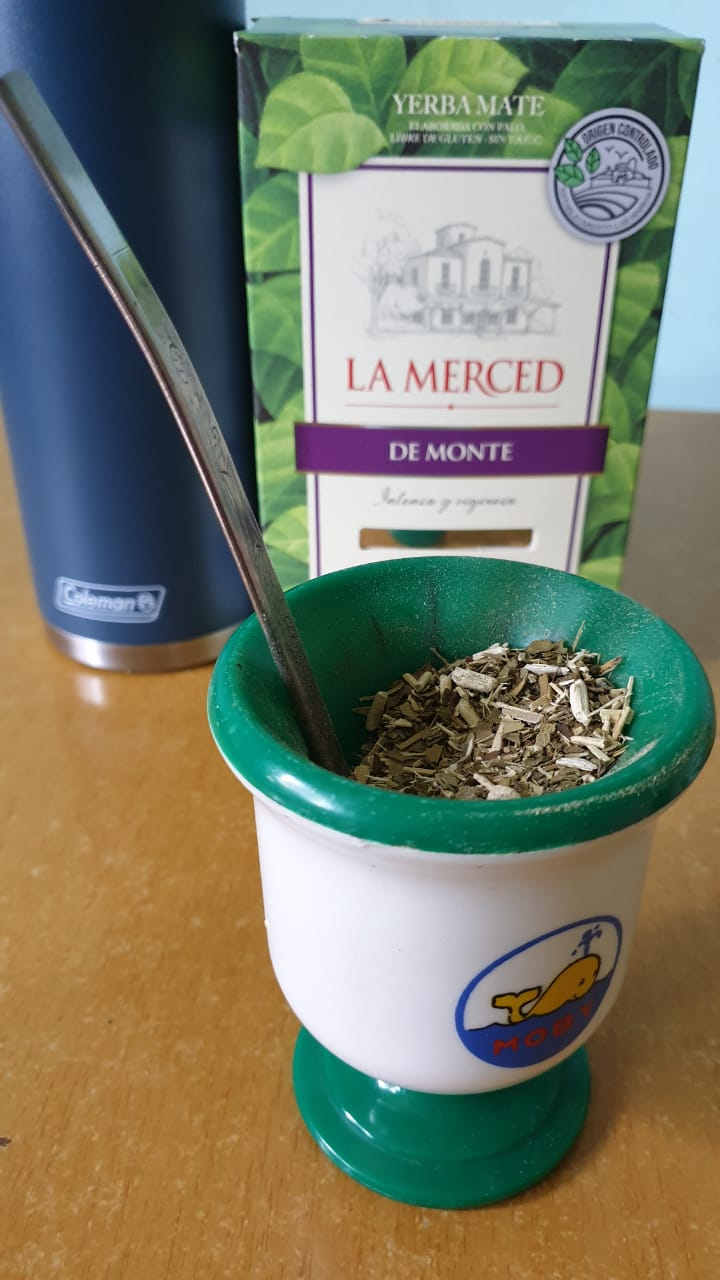mate: (190, 517, 711, 1232)
plastico: (193, 524, 715, 1200)
